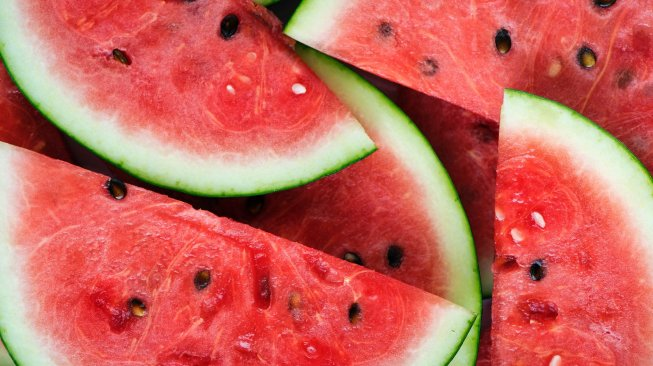Semangka: (1, 236, 508, 363)
